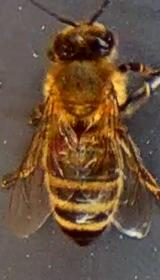varroa_mite: (44, 132, 67, 159)
